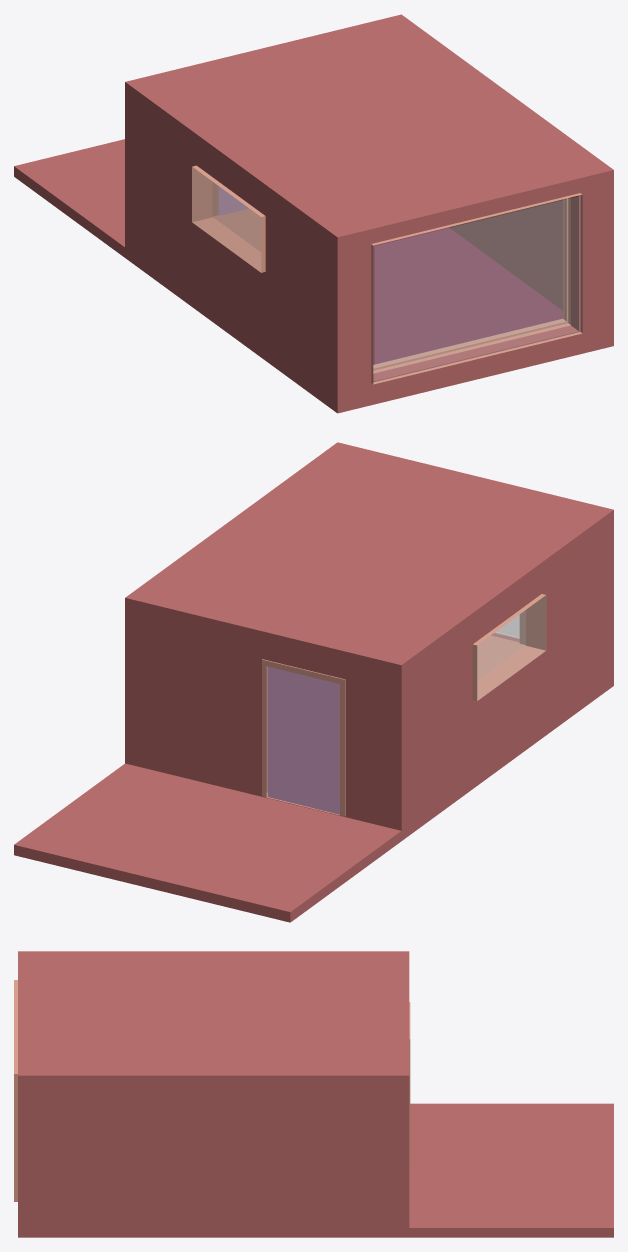
Rendered from room.fbx.
The picture shows the model from 3 angles, top to bottom: view 1: azimuth 30°, elevation 25°; view 2: azimuth 150°, elevation 25°; view 3: azimuth 270°, elevation 25°; orthographic projection. The views are drawn at different scales.
Parts seen in each view (by area): view 1: Walls, Ceiling, Big Window, Big Window Frame, Window, Window Frame, Cube; view 2: Walls, Ceiling, Door, Window, Window Frame, Door Frame, Cube; view 3: Walls, Ceiling, Big Window Frame.
Boxes of the visible parts, bbox=[...] form: Walls: bbox=[14, 88, 613, 413]; Ceiling: bbox=[125, 14, 613, 244]; Big Window: bbox=[373, 196, 580, 382]; Big Window Frame: bbox=[371, 193, 582, 384]; Window: bbox=[192, 167, 260, 272]; Window Frame: bbox=[192, 165, 265, 272]; Cube: bbox=[220, 208, 261, 245]; Walls: bbox=[14, 516, 613, 922]; Ceiling: bbox=[125, 442, 613, 671]; Door: bbox=[267, 666, 339, 814]; Window: bbox=[477, 595, 546, 700]; Window Frame: bbox=[472, 594, 546, 700]; Door Frame: bbox=[262, 659, 345, 816]; Cube: bbox=[477, 637, 517, 674]; Walls: bbox=[18, 1081, 613, 1237]; Ceiling: bbox=[18, 951, 409, 1081]; Big Window Frame: bbox=[14, 980, 17, 1201].
Bounding box in the file's own units: 429 × 257 × 863.
Materials: 2 (1 with a texture image).
